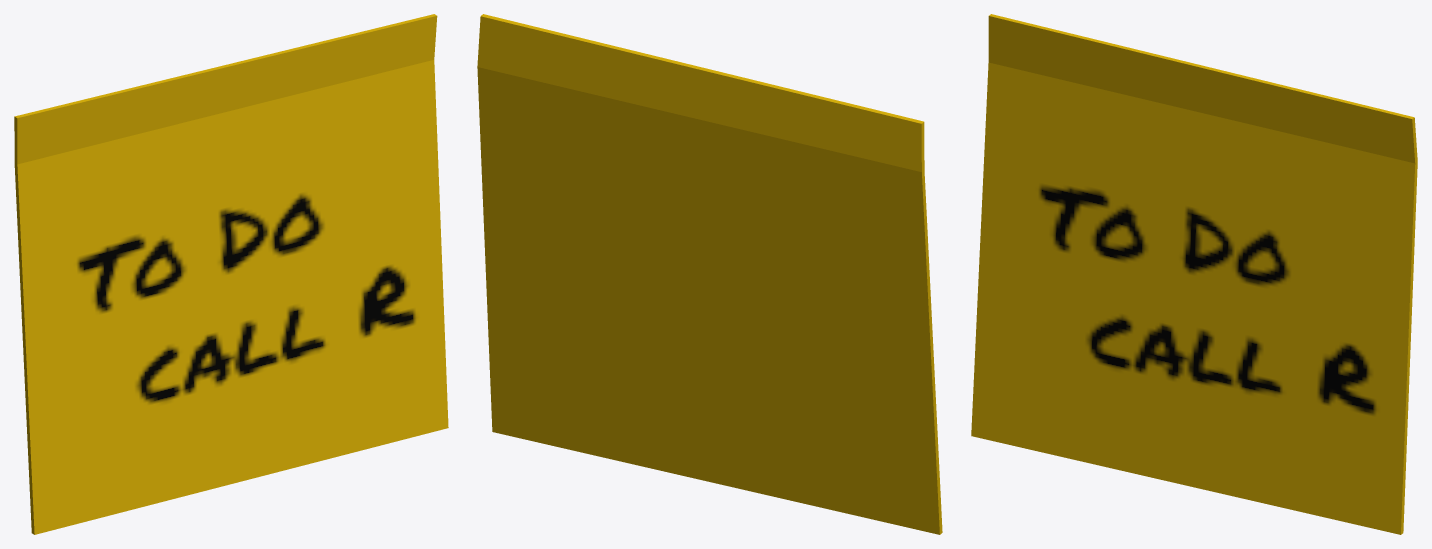
The model's file is StickyNotesV4Yellow_T.fbx.
3 views of the same model, side by side, from view 1: azimuth 30°, elevation 25°; view 2: azimuth 150°, elevation 25°; view 3: azimuth 330°, elevation 25° (orthographic). The views are drawn at different scales.
Parts seen in each view (by area): view 1: StickyNotesV4Yellow_T; view 2: StickyNotesV4Yellow_T; view 3: StickyNotesV4Yellow_T.
Part boxes in pixels (x1,y1,x2,y2): StickyNotesV4Yellow_T: (14, 14, 448, 534); StickyNotesV4Yellow_T: (477, 14, 942, 534); StickyNotesV4Yellow_T: (971, 14, 1417, 534).
Size of the model in its own units: 5.41 by 4.97 by 0.5116.
